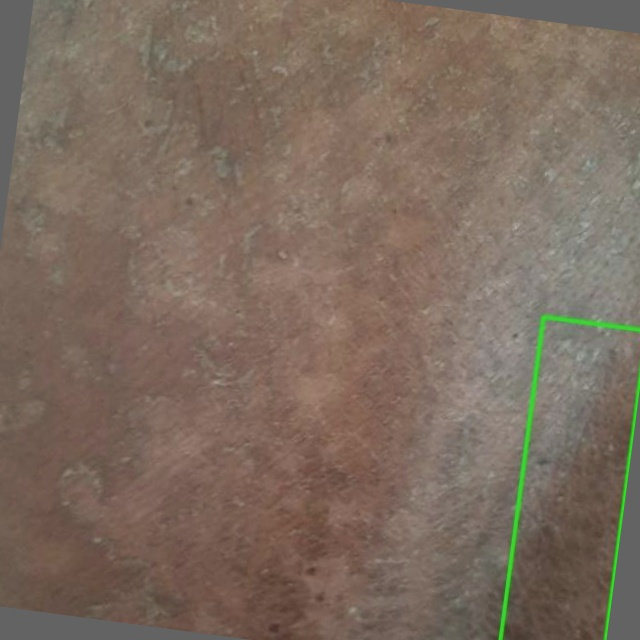Seborrheic Dermatitis: (500, 316, 639, 639)
